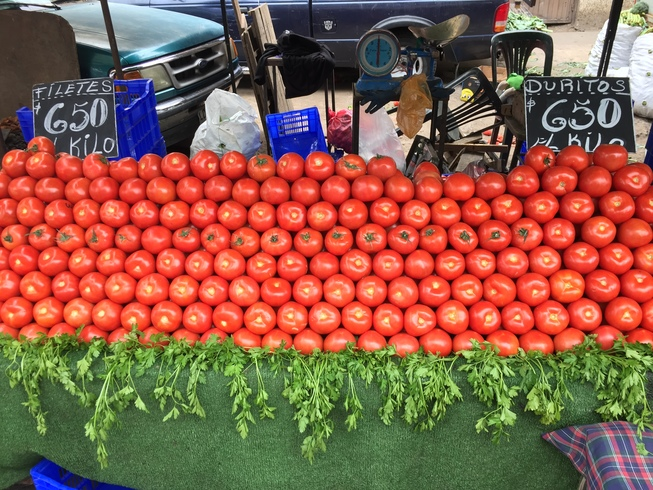precio: (529, 78, 633, 172), (33, 76, 120, 166)
